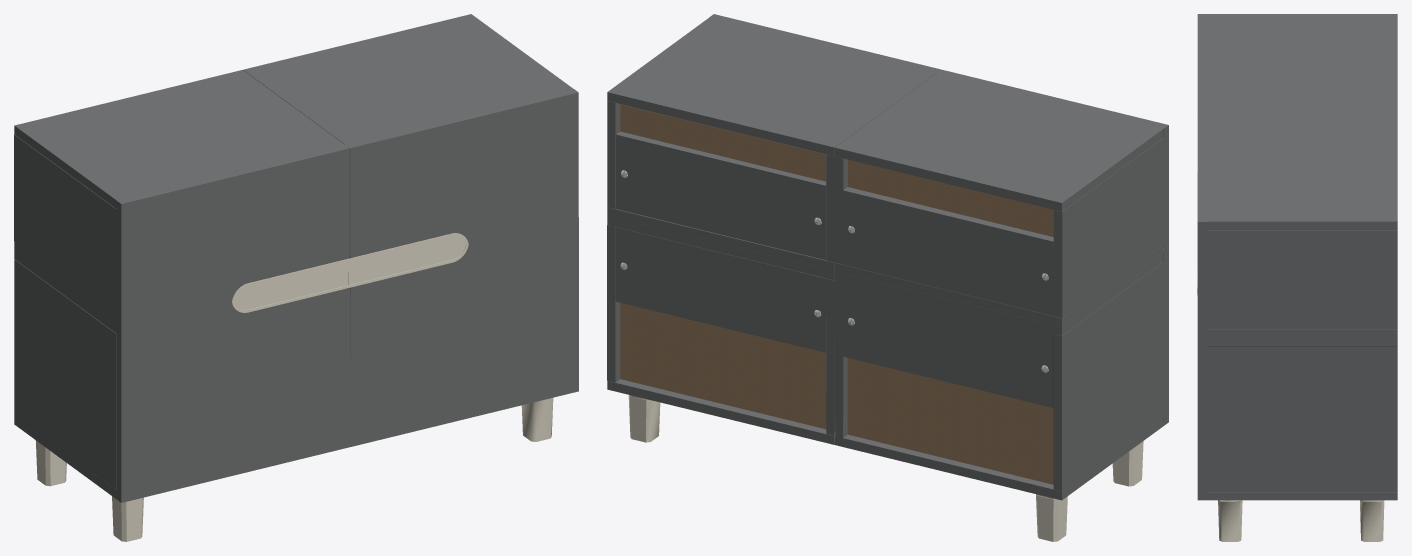
The picture shows the model from 3 angles, left to right: view 1: azimuth 30°, elevation 25°; view 2: azimuth 150°, elevation 25°; view 3: azimuth 270°, elevation 25°; orthographic projection. The views are drawn at different scales.
Parts seen in each view (by area): view 1: group_0.094, group_0.148, group_0.144, group_0.146, group_0.114, group_0.147, group_0.149, group_0.145, group_0.143, group_0.015; view 2: group_0.094, group_0.148, group_0.150, group_0.144, group_0.146, group_0.114, group_0.015; view 3: group_0.144, group_0.146, group_0.094, group_0.015.
Part boxes in pixels (bbox=[...]): group_0.094: bbox=[14, 70, 349, 328]; group_0.148: bbox=[14, 250, 349, 502]; group_0.144: bbox=[243, 14, 578, 258]; group_0.146: bbox=[347, 217, 578, 446]; group_0.114: bbox=[35, 440, 143, 541]; group_0.147: bbox=[348, 243, 468, 287]; group_0.149: bbox=[232, 272, 349, 312]; group_0.145: bbox=[348, 233, 468, 271]; group_0.143: bbox=[231, 258, 350, 301]; group_0.015: bbox=[521, 398, 553, 441]; group_0.094: bbox=[834, 69, 1168, 326]; group_0.148: bbox=[616, 131, 1168, 500]; group_0.150: bbox=[620, 104, 1053, 484]; group_0.144: bbox=[607, 14, 940, 271]; group_0.146: bbox=[607, 216, 835, 444]; group_0.114: bbox=[1036, 441, 1143, 541]; group_0.015: bbox=[628, 395, 660, 442]; group_0.144: bbox=[1197, 118, 1397, 337]; group_0.146: bbox=[1197, 338, 1397, 500]; group_0.094: bbox=[1197, 14, 1397, 117]; group_0.015: bbox=[1218, 500, 1384, 541].
Bounding box in the file's own units: 0.9602 × 0.7028 × 0.391.
Materials: 6 (1 with a texture image).
